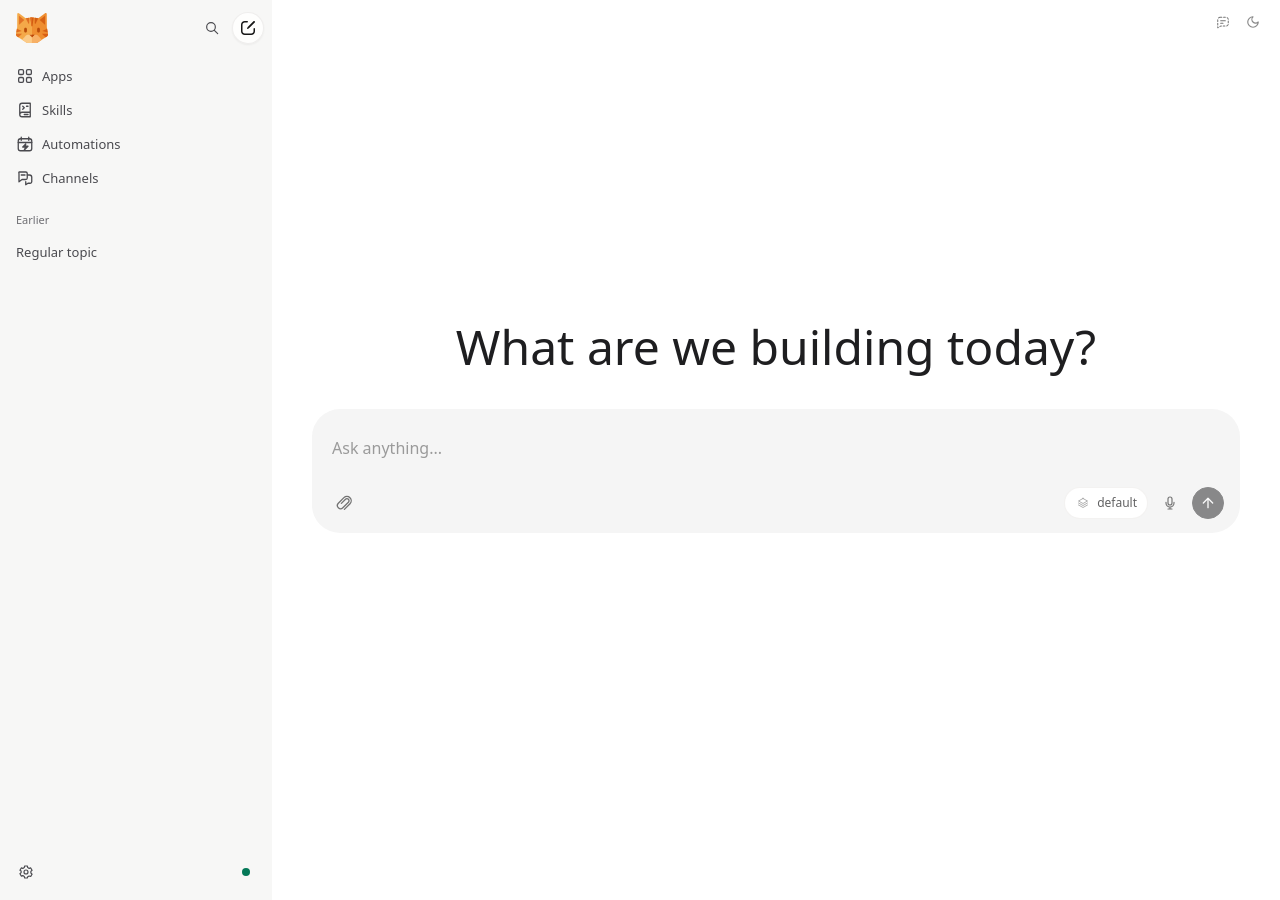
Scenario: temporary chat navigation › preserves streamed output when the turn finishes after returning
Step 1. Click the button named "Temporary chat" → (1223, 22), box left=1209, top=8, right=1237, bottom=36
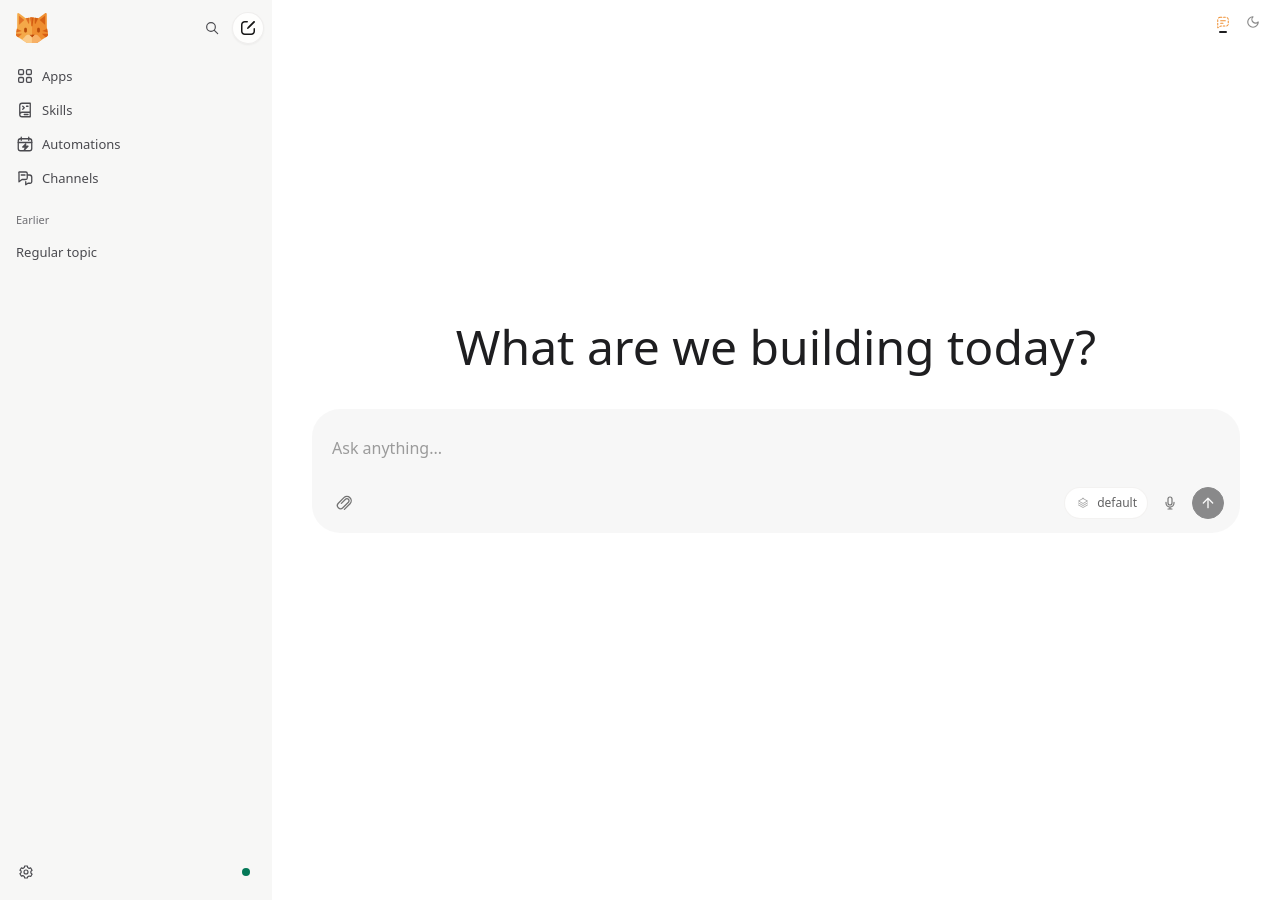
Step 2. Type "Count from one to three" into the text box named "Message input" → (776, 448), box left=312, top=409, right=1240, bottom=487
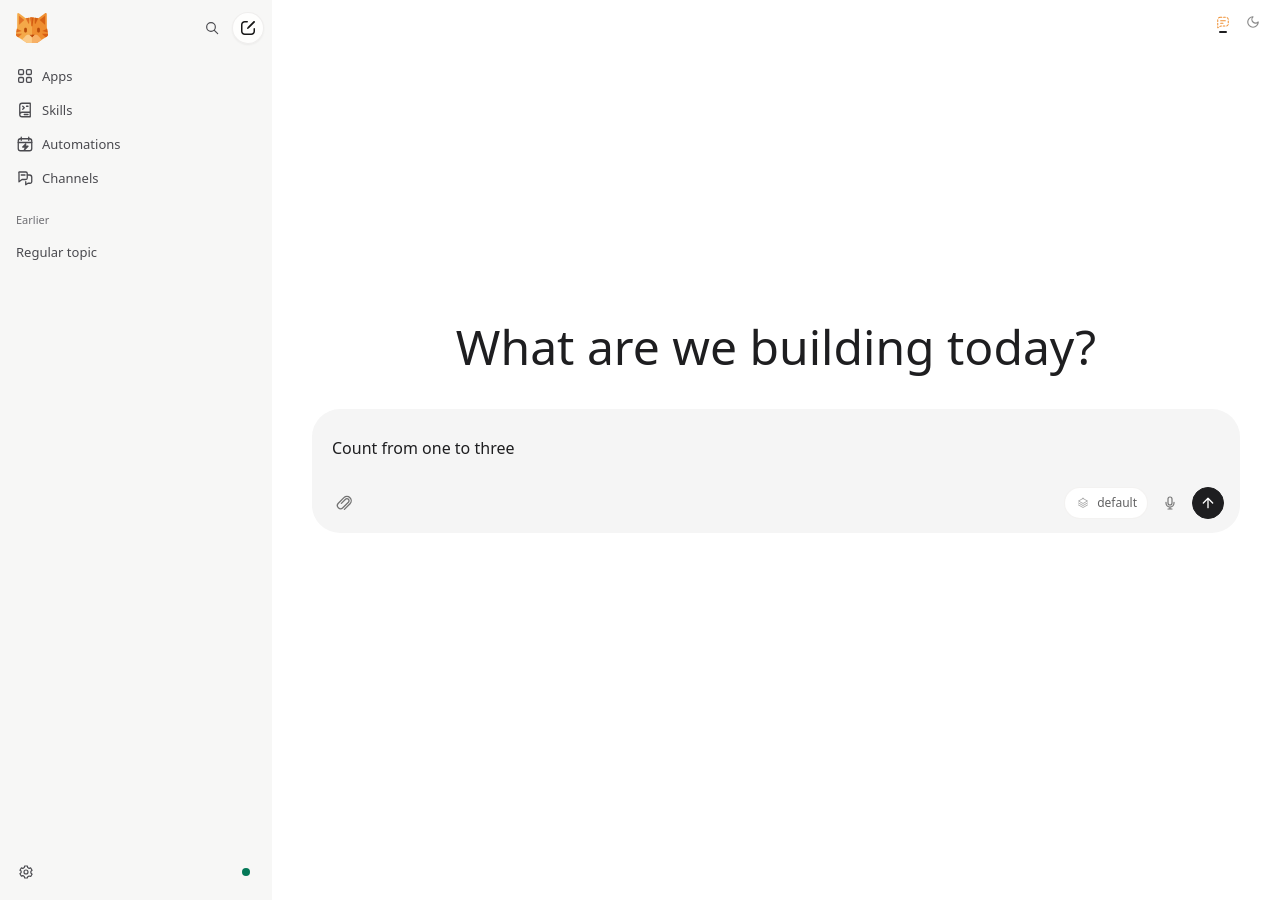
Step 3. Click the button named "Send message" → (1208, 503), box left=1192, top=487, right=1224, bottom=519
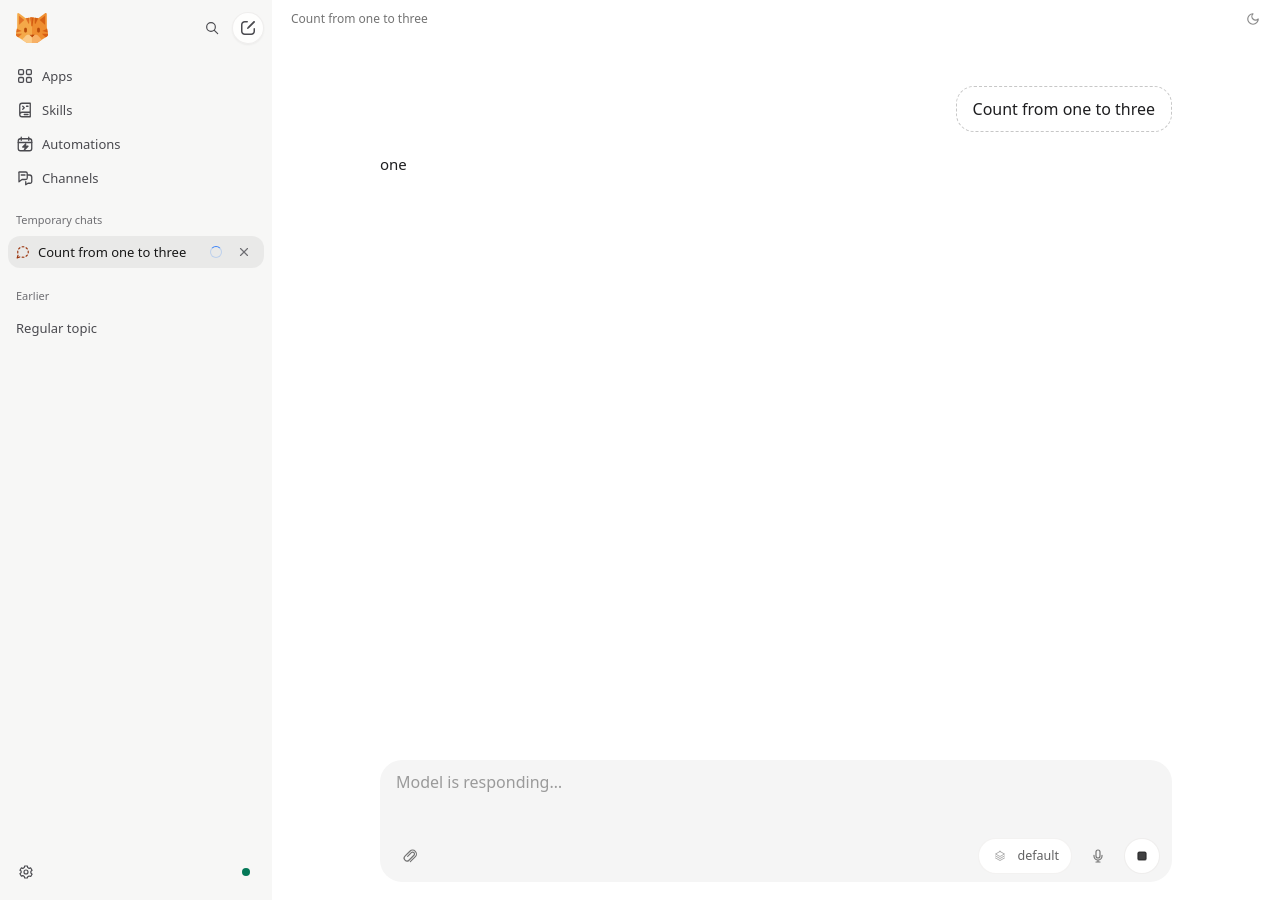
Now the 2nd text "Count from one to three" is shown, box left=956, top=86, right=1172, bottom=132
Now the text "one" is shown, box left=380, top=154, right=407, bottom=174
Step 4. Click the button "Regular topic" → (112, 328), box left=16, top=312, right=208, bottom=344
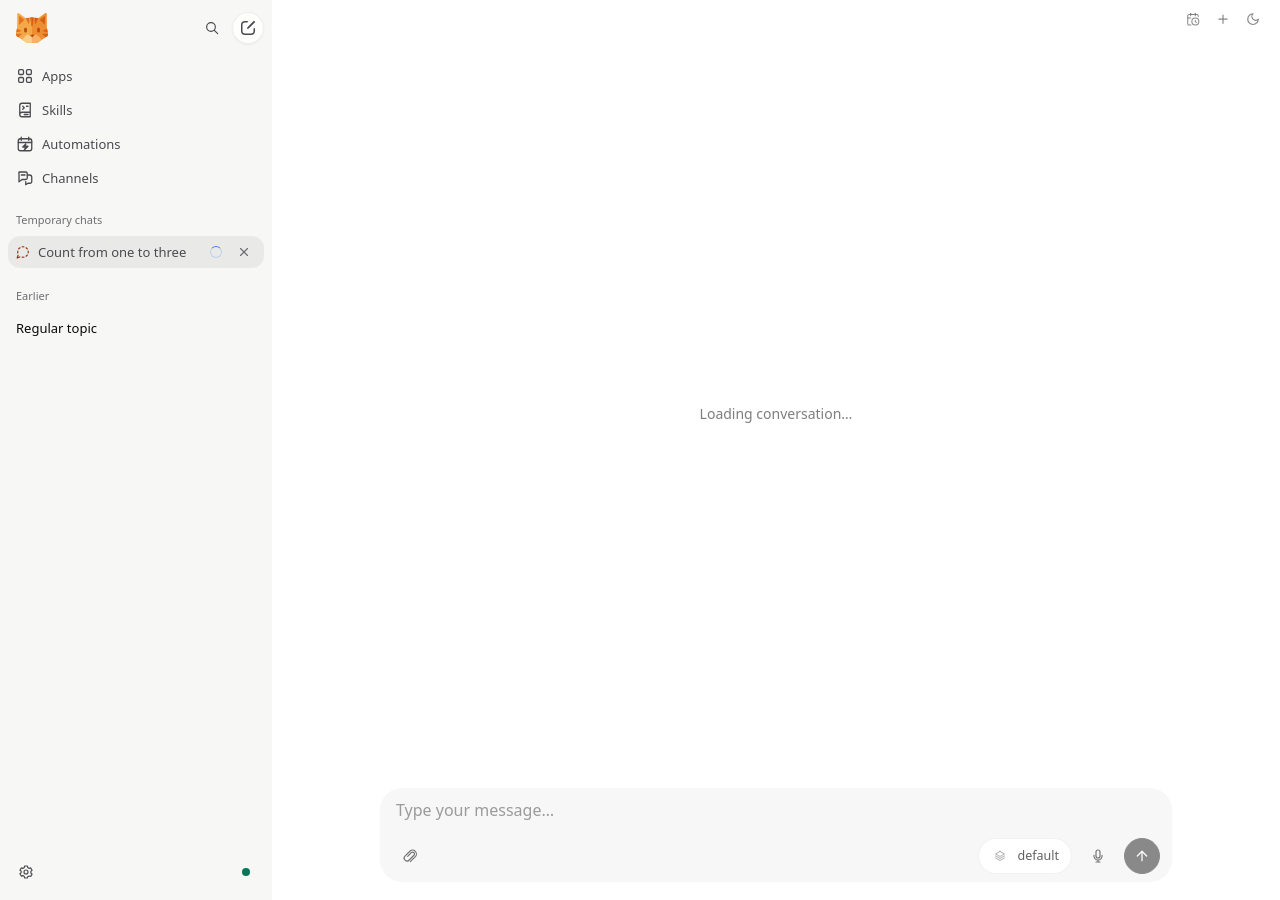
Step 5. Click the button "Count from one to three" → (108, 252), box left=16, top=236, right=200, bottom=268
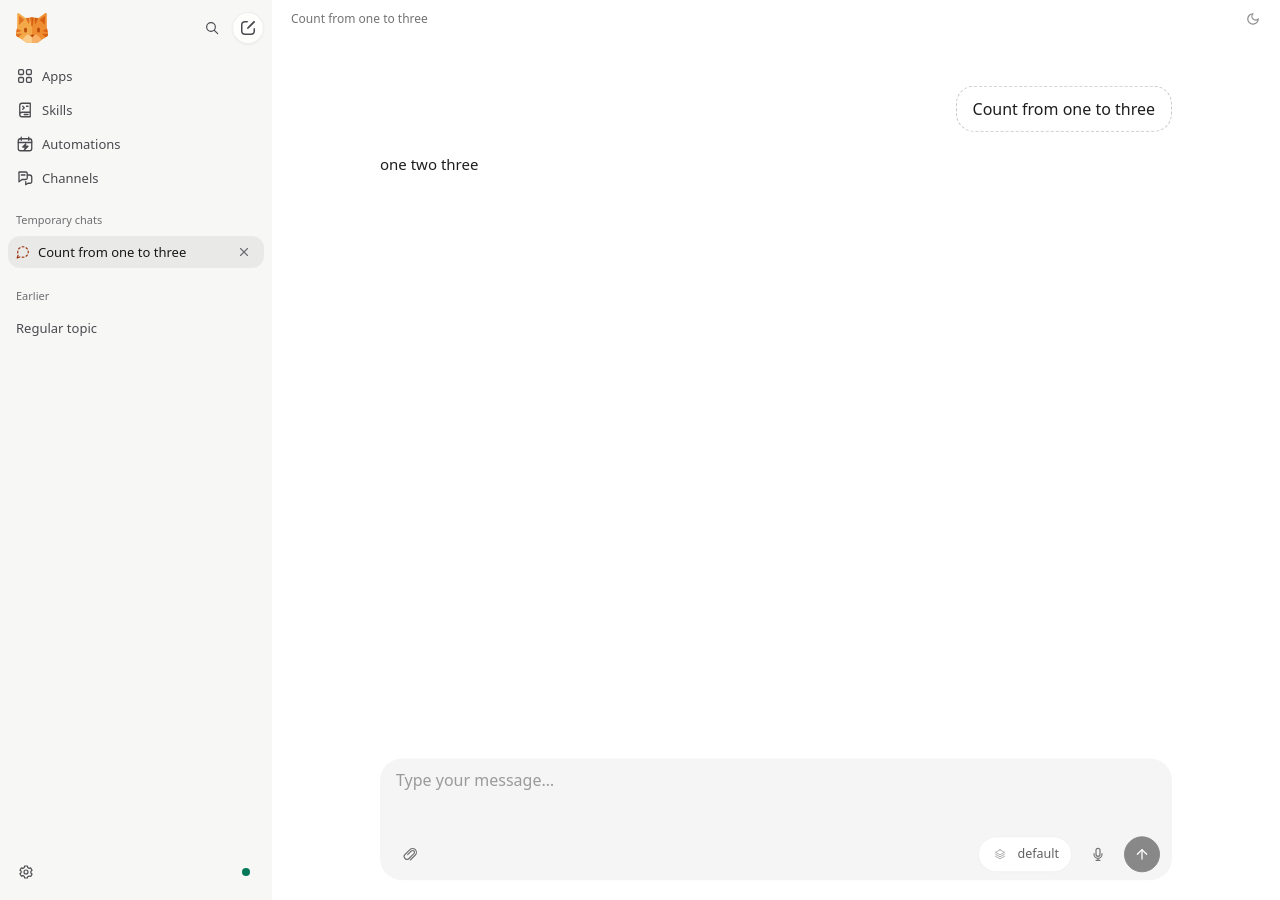
Expected: the button named "Stop response" is shown, left=1124, top=838, right=1160, bottom=874
Now the text "one two three" is shown once, box left=380, top=154, right=478, bottom=174
Now the text "Count from one to three" is shown once, box left=956, top=86, right=1172, bottom=132
